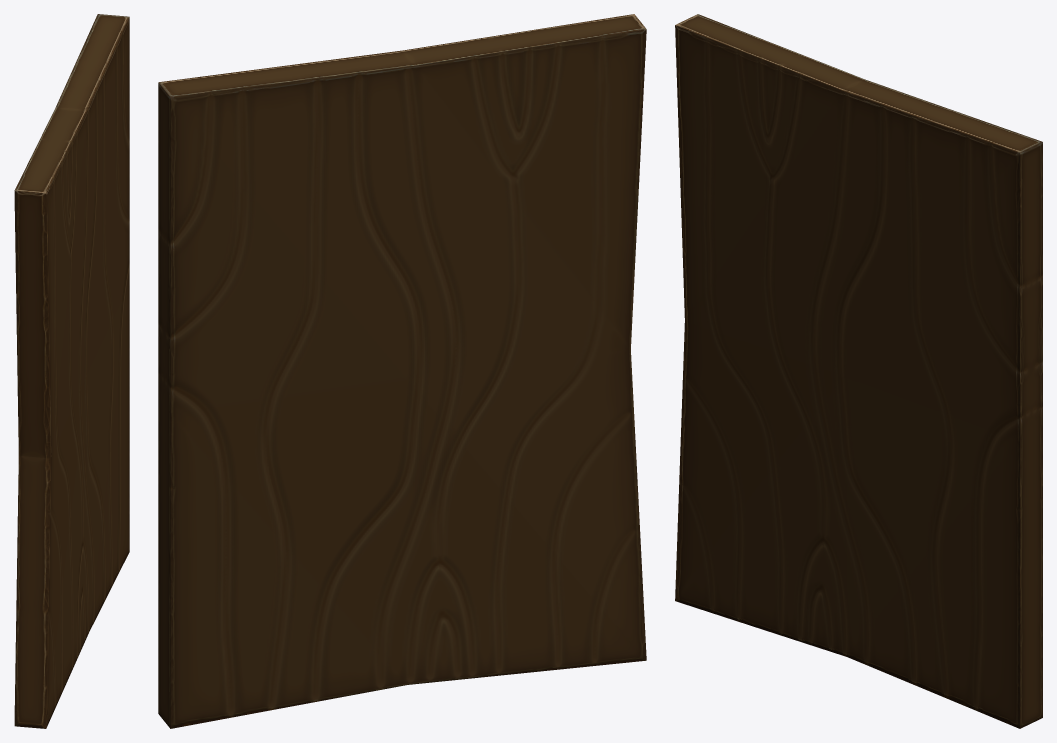
The model's file is DoorSpawnTest.fbx.
The picture shows the model from 3 angles, left to right: view 1: azimuth 30°, elevation 25°; view 2: azimuth 150°, elevation 25°; view 3: azimuth 270°, elevation 25°; orthographic projection. The views are drawn at different scales.
Visible parts, largest first — view 1: Door_LOW; view 2: Door_LOW; view 3: Door_LOW.
Part boxes in pixels (x1,y1,x2,y2): Door_LOW: (14,14,129,728); Door_LOW: (158,14,646,728); Door_LOW: (675,14,1042,728).
Size of the model in its own units: 124 by 240 by 139.
1 material, 1 textured.
